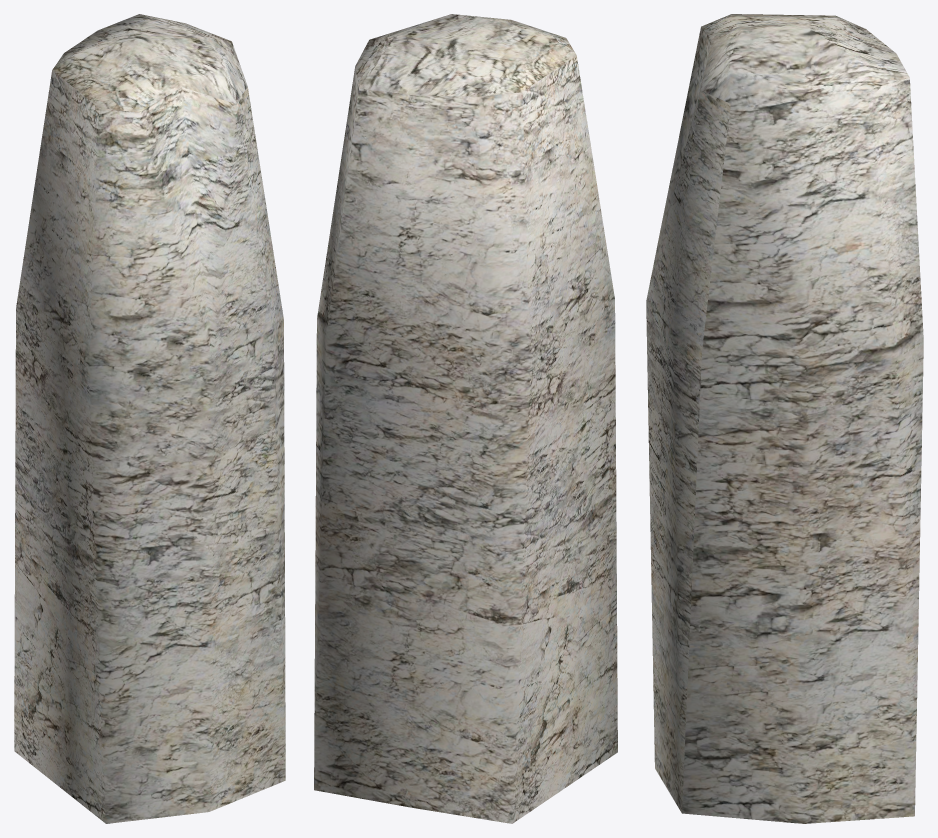
Rendered from stone_furrowed_4.dae.
3 renders of one model, left to right at view 1: azimuth 30°, elevation 25°; view 2: azimuth 150°, elevation 25°; view 3: azimuth 270°, elevation 25°, orthographic. The views are drawn at different scales.
Parts seen in each view (by area): view 1: Cube_010; view 2: Cube_010; view 3: Cube_010.
Part boxes in pixels (x1=…): Cube_010: x1=14, y1=14, x2=285, y2=823; Cube_010: x1=314, y1=14, x2=617, y2=823; Cube_010: x1=646, y1=14, x2=923, y2=823.
Bounding box in the file's own units: 8.97 × 9.75 × 28.7.
